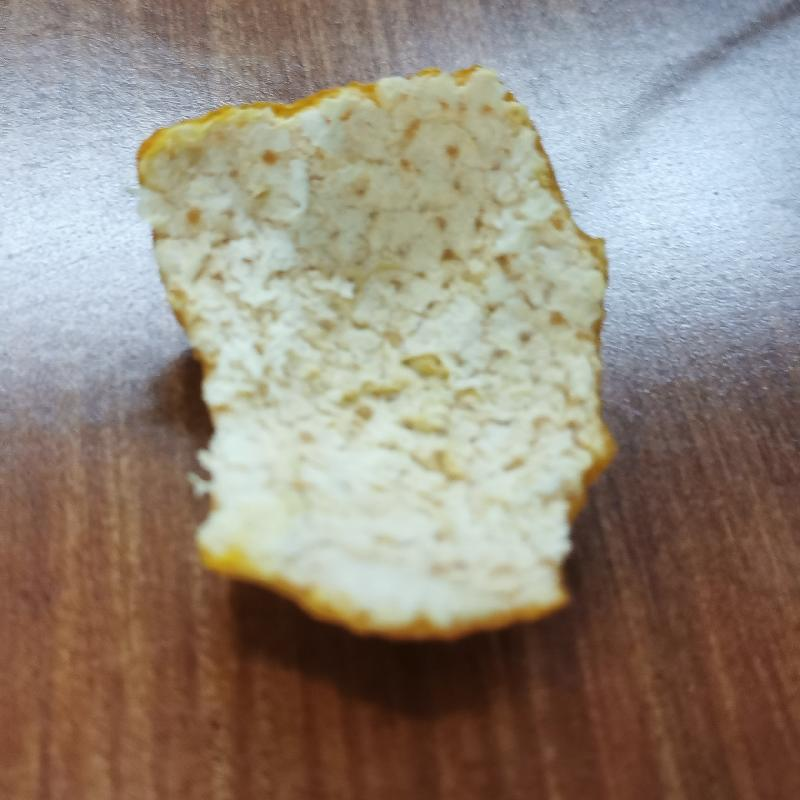orange: (134, 68, 615, 634)
